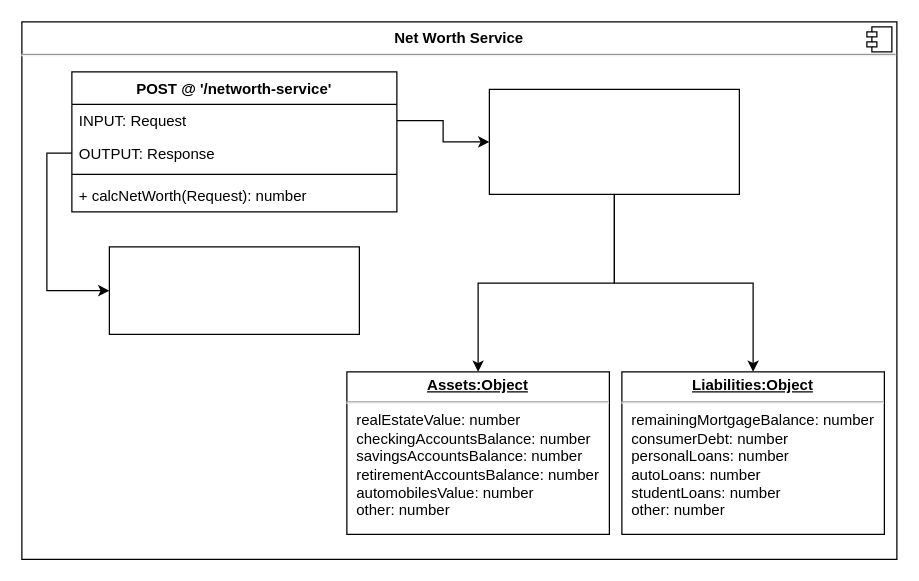
Some shapes in this 919 by 581 pixel diagram are drawn without their labels. Each missing label, with the centre of its shape:
Request:"application/json" assets: Assets liabilities: Liabilities: point (613, 141)
Response:"application/json" netWorth: number: point (233, 290)
